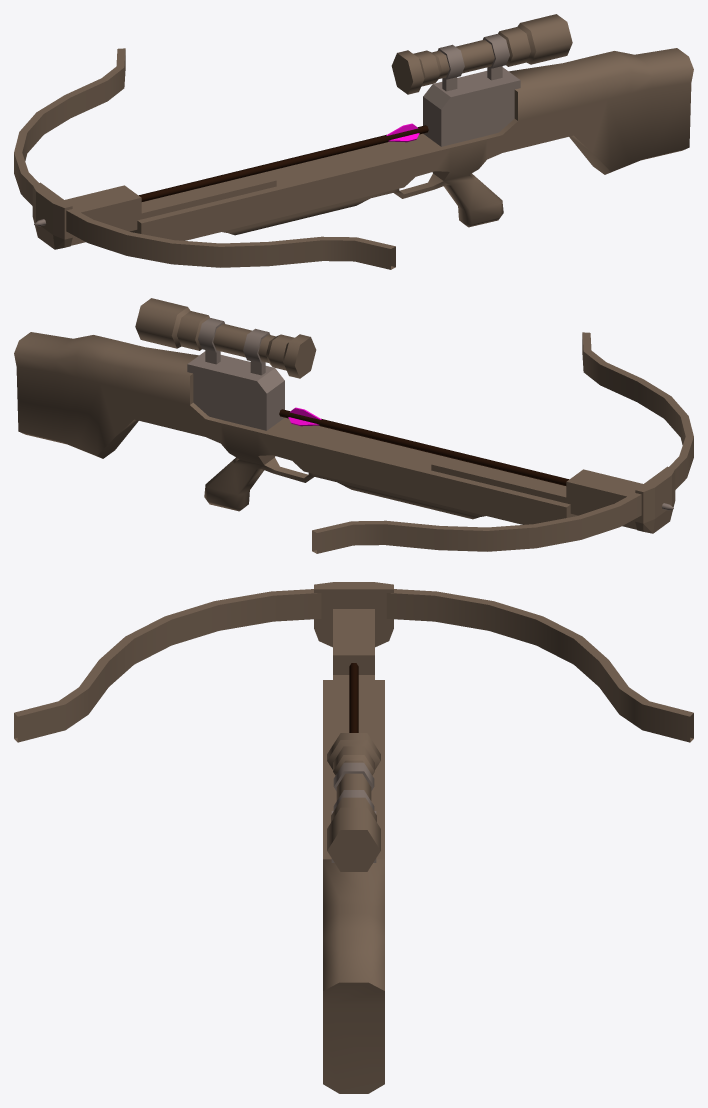
Rendered from M_Crossbow.FBX.
3 renders of one model, top to bottom at view 1: azimuth 30°, elevation 25°; view 2: azimuth 150°, elevation 25°; view 3: azimuth 270°, elevation 25°, orthographic. The views are drawn at different scales.
Parts seen in each view (by area): view 1: M_Crossbow; view 2: M_Crossbow; view 3: M_Crossbow.
Boxes of the visible parts, x1,y1,x2,y2 form: M_Crossbow: (14,14,693,269); M_Crossbow: (14,298,693,553); M_Crossbow: (14,582,693,1093).
Bounding box in the file's own units: 50.29 × 13.66 × 36.72.
